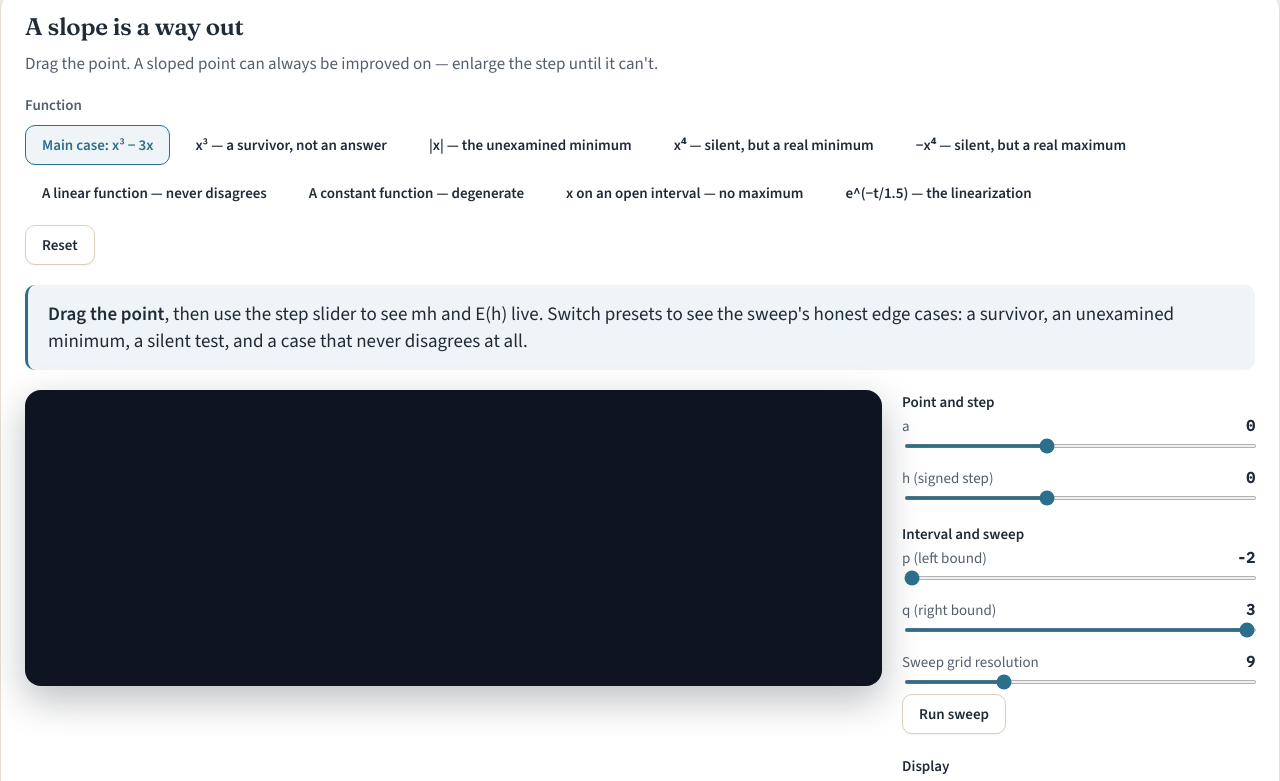
Test: OptimizationApproximationExplorer › the sweep strip stays neutral until Run sweep is clicked, then colors by the real candidate set
Click the button "Run sweep" at (954, 714), box [902,694,1006,734]
(page scrolled)
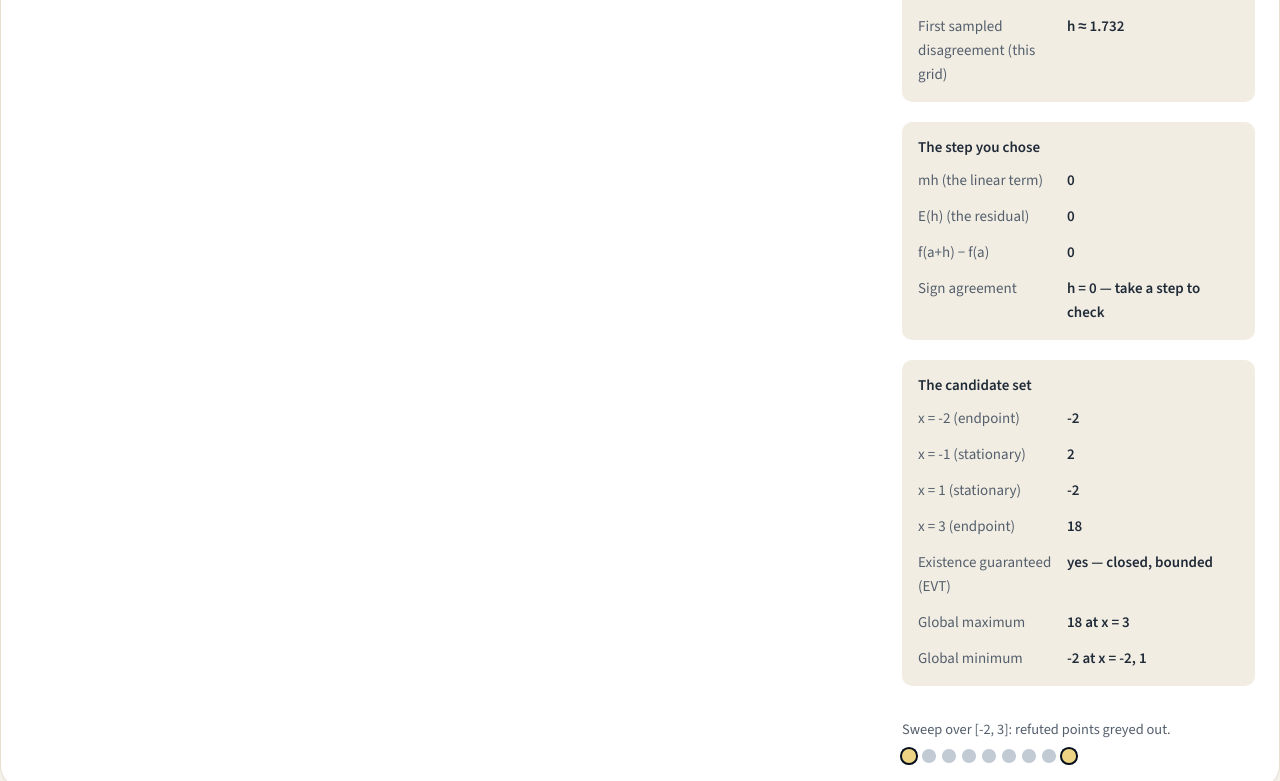
Now the text "Sweep over" is shown, box [902,720,1171,739]
Now the 1st element with class "optapprox-explorer__sweep-dot--candidate" is shown, box [902,749,916,763]
Now the 1st element with class "optapprox-explorer__sweep-dot--refuted" is shown, box [922,749,936,763]
